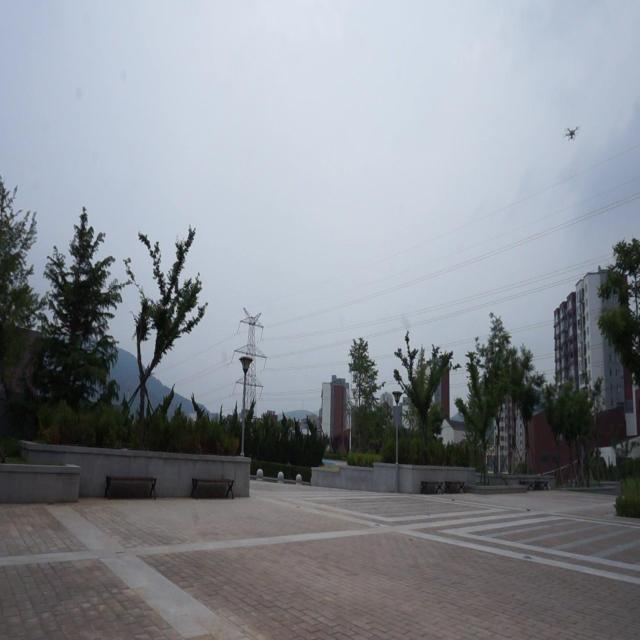drone: (560, 120, 581, 148)
